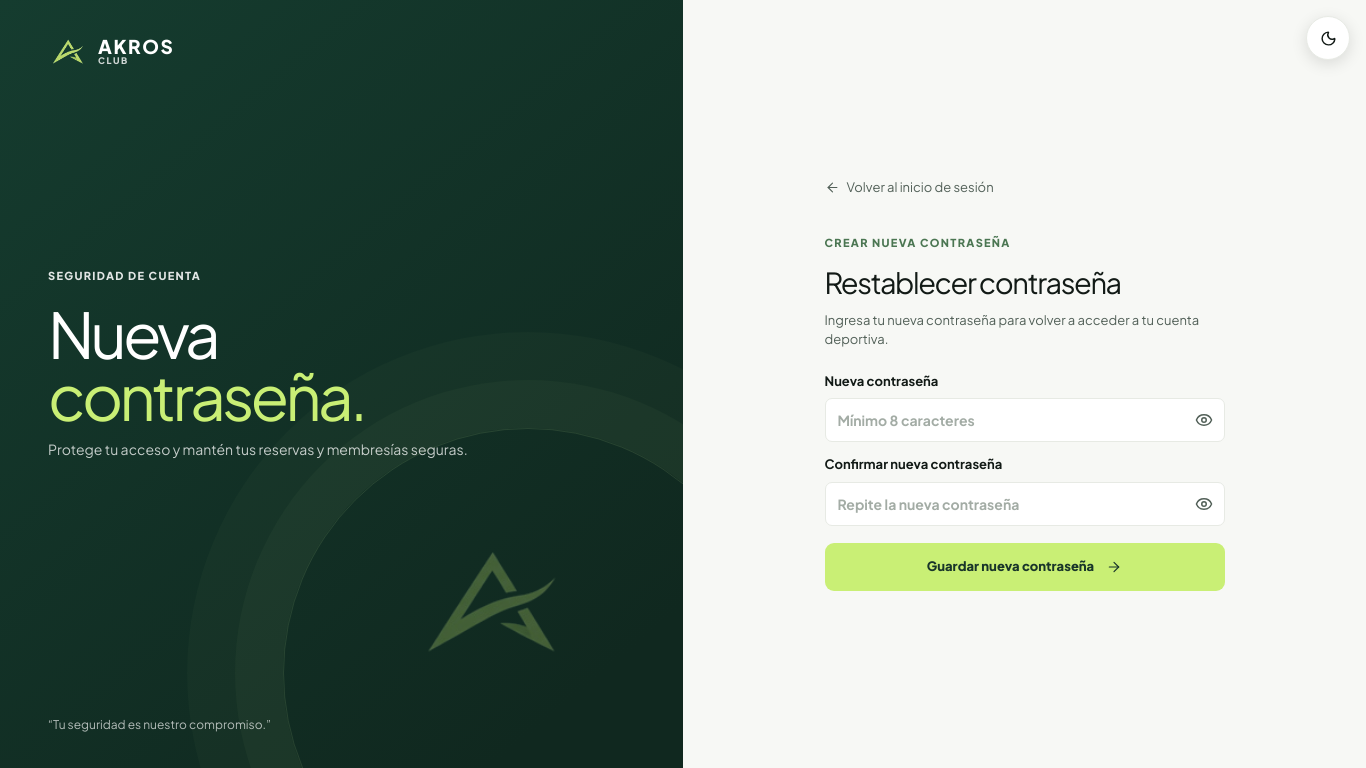
Test case: TSK-QA-05 [WCAG 3.3.1]: Alerta en tiempo real "Las contraseñas no coinciden" bloquea submit y desaparece al sincronizar
Note: Escribir contraseña inicial
Type "MiClaveSegura2026!" into the password field with placeholder "Mínimo 8 caracteres" at (1024, 420), box left=824, top=398, right=1224, bottom=442
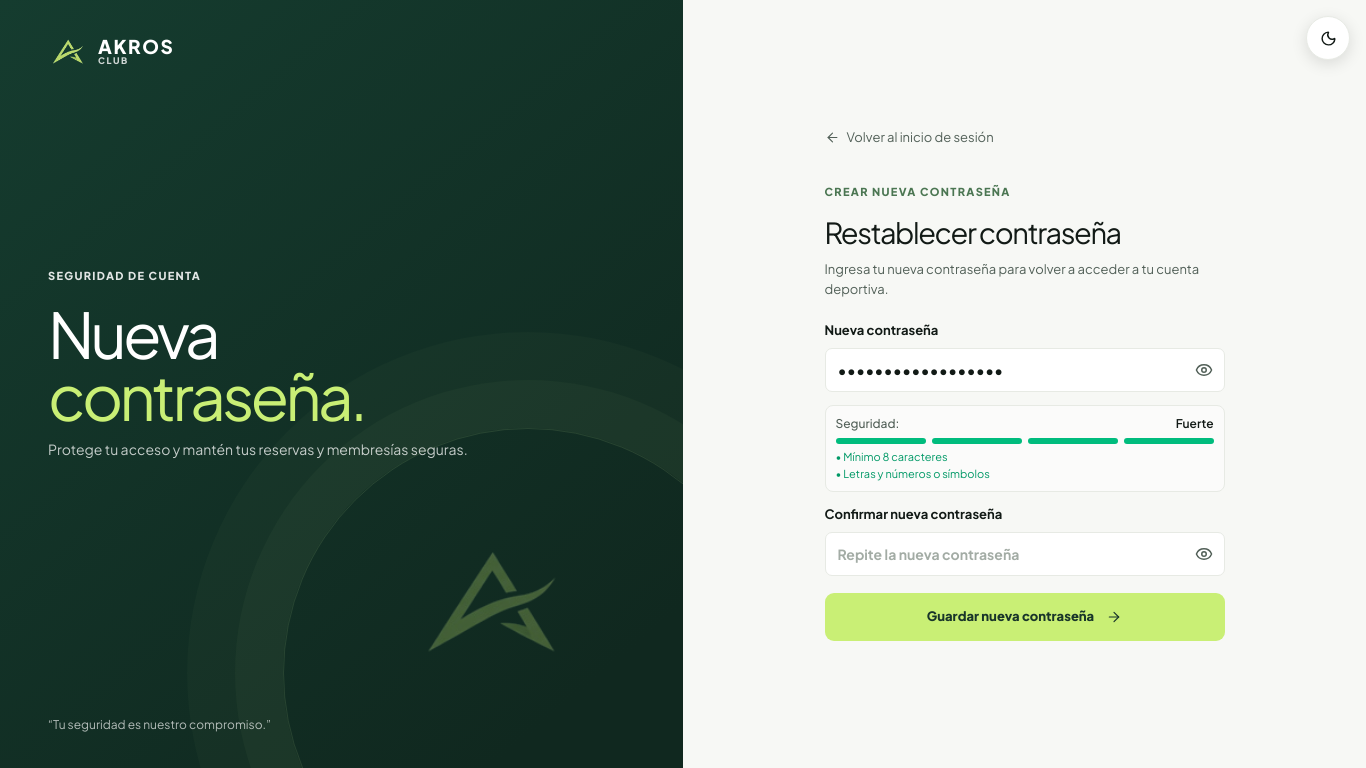
Note: Escribir confirmación diferente
Type "MiClaveDiferente999?" into the password field with placeholder "Repite la nueva contraseña" at (1024, 554), box left=824, top=532, right=1224, bottom=576
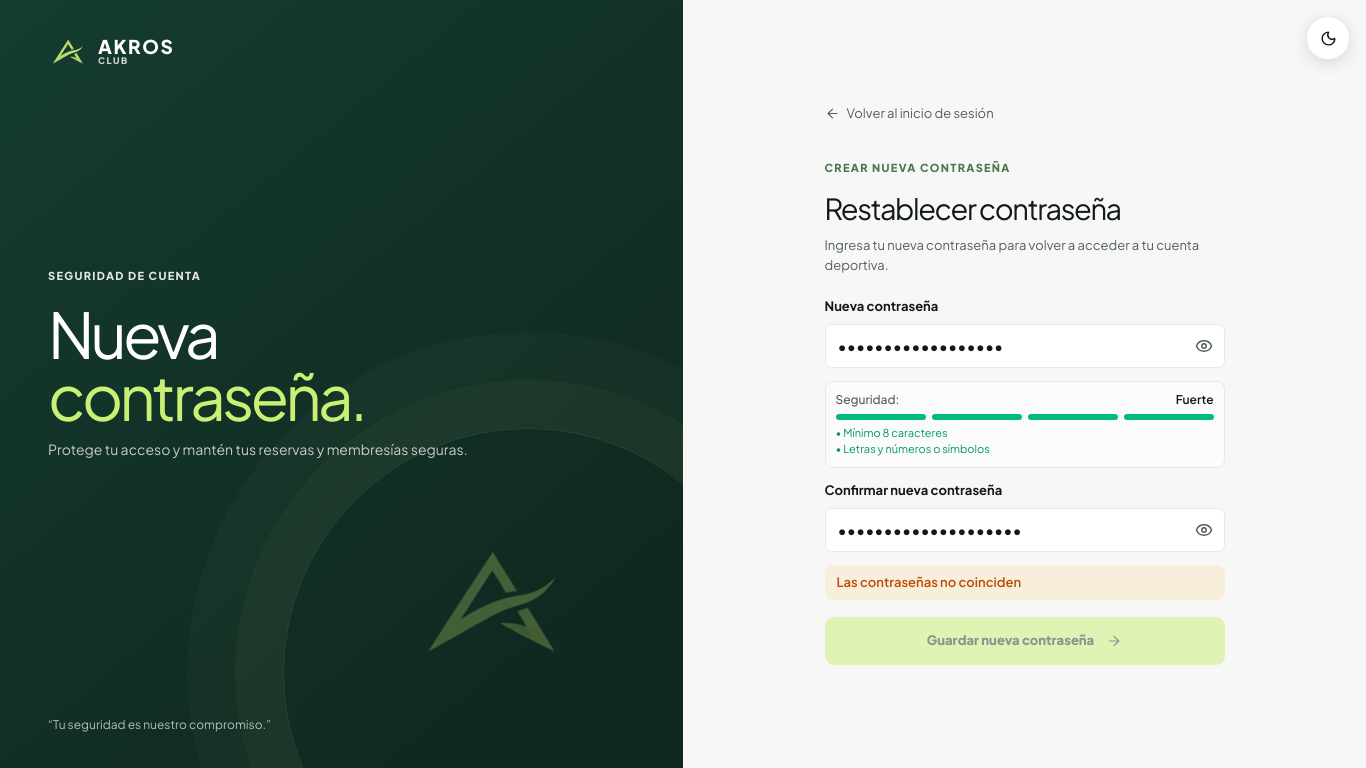
Expected: the message "Las contraseñas no coinciden" is shown, left=824, top=564, right=1224, bottom=600
Expected: the message reads "Las contraseñas no coinciden", left=836, top=574, right=1021, bottom=590
Note: Corregir confirmación para que coincida exactamente
Type "MiClaveSegura2026!" into the password field with placeholder "Repite la nueva contraseña" at (1024, 530), box left=824, top=508, right=1224, bottom=552
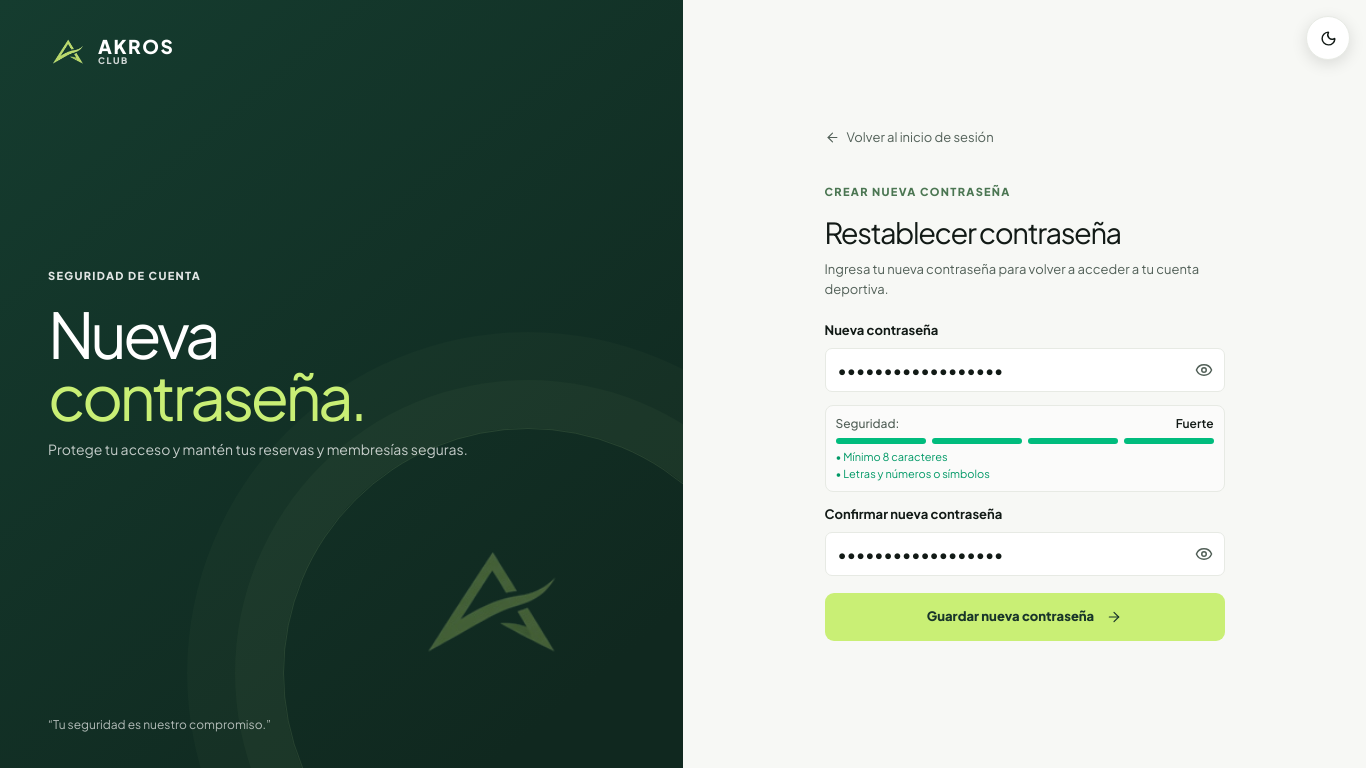
Expected: the message "Las contraseñas no coinciden" is gone
